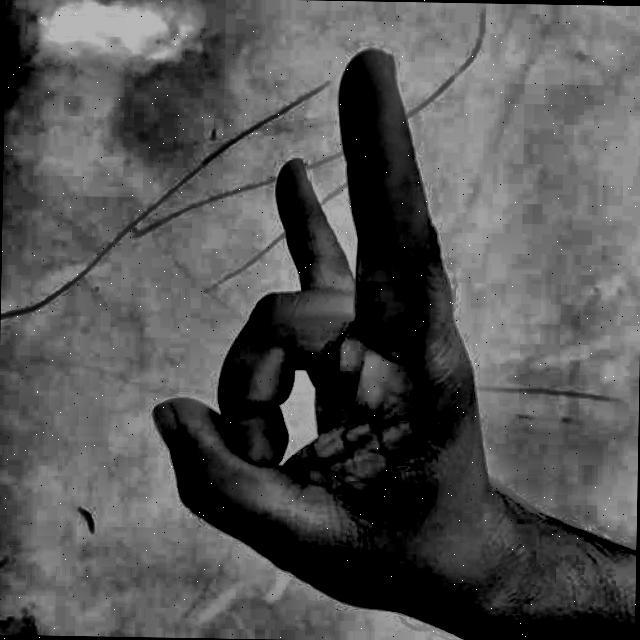Cha: (104, 34, 548, 640)
